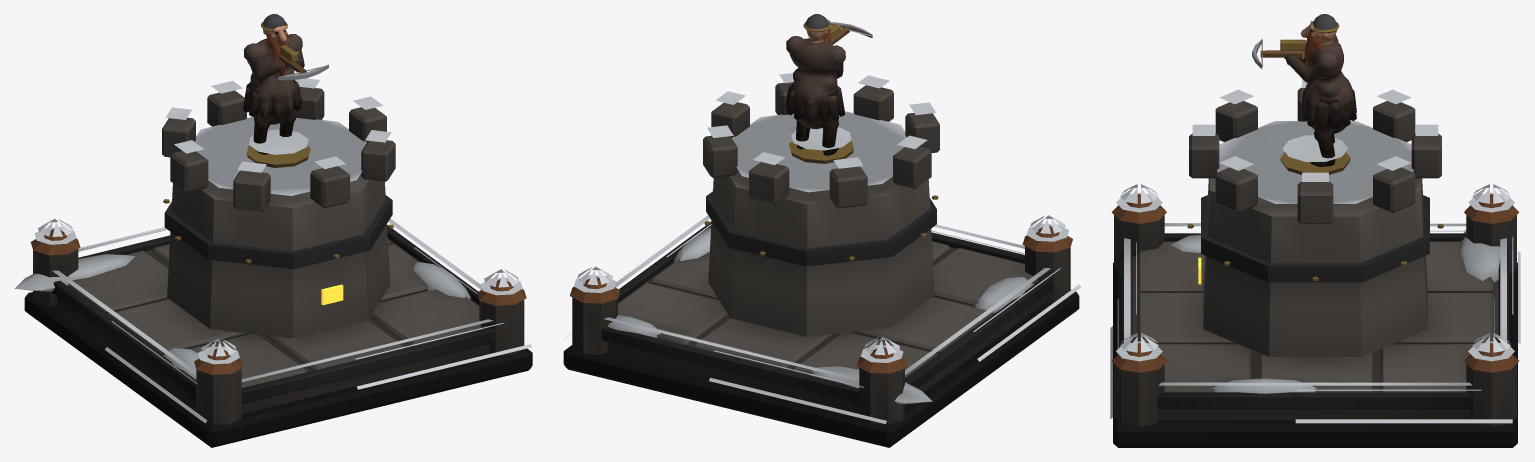
The model's file is nains-0.glb.
3 views of the same model, side by side, from view 1: azimuth 30°, elevation 25°; view 2: azimuth 150°, elevation 25°; view 3: azimuth 270°, elevation 25° (orthographic). The views are drawn at different scales.
Parts seen in each view (by area): view 1: hautroc_0_architecture, hautroc_0_nain, hautroc_0_nain_accessoires; view 2: hautroc_0_architecture, hautroc_0_nain, hautroc_0_nain_accessoires; view 3: hautroc_0_architecture, hautroc_0_nain, hautroc_0_nain_accessoires.
Part boxes in pixels (bbox=[...]): hautroc_0_architecture: bbox=[14, 78, 532, 447]; hautroc_0_nain: bbox=[243, 25, 304, 154]; hautroc_0_nain_accessoires: bbox=[249, 14, 328, 92]; hautroc_0_architecture: bbox=[563, 73, 1081, 447]; hautroc_0_nain: bbox=[785, 19, 845, 155]; hautroc_0_nain_accessoires: bbox=[791, 14, 872, 96]; hautroc_0_architecture: bbox=[1110, 79, 1520, 447]; hautroc_0_nain: bbox=[1284, 21, 1356, 166]; hautroc_0_nain_accessoires: bbox=[1252, 14, 1339, 104].
Size of the model in its own units: 0.8655 by 0.762 by 0.811.
Materials: 3 (1 with a texture image).
